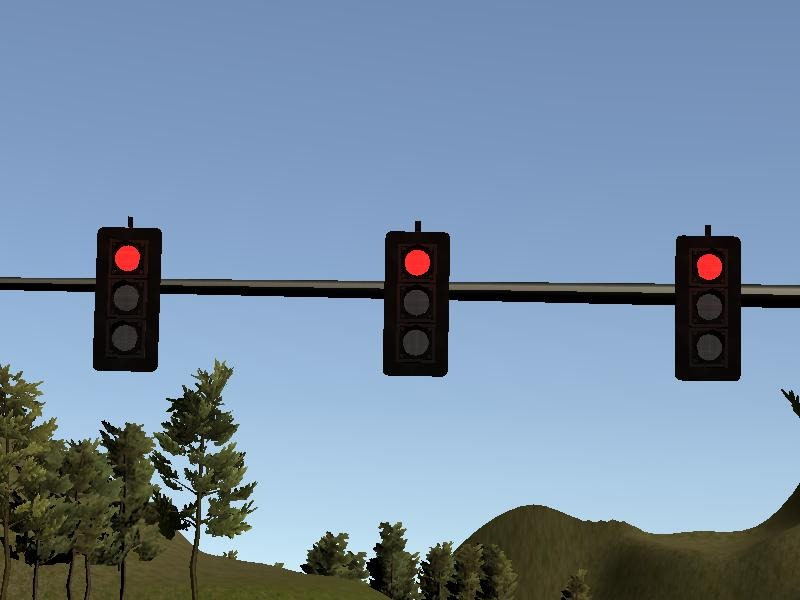red: (94, 226, 160, 374), (675, 234, 741, 382), (383, 229, 449, 377)
